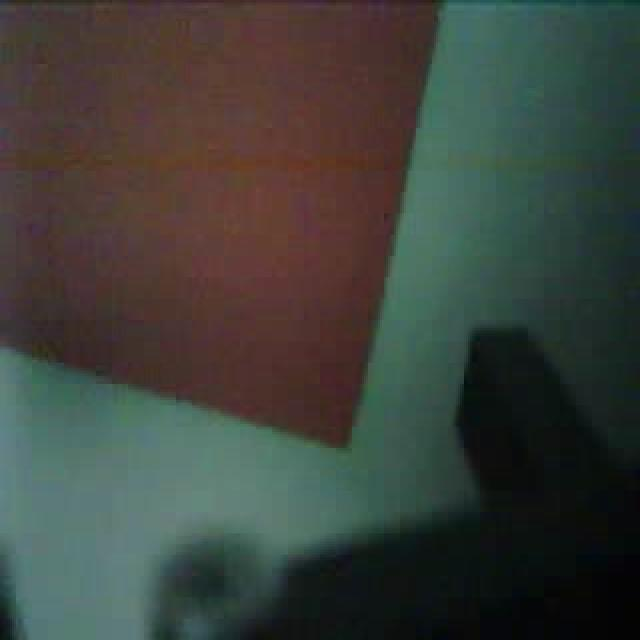red_box: (0, 0, 444, 453)
